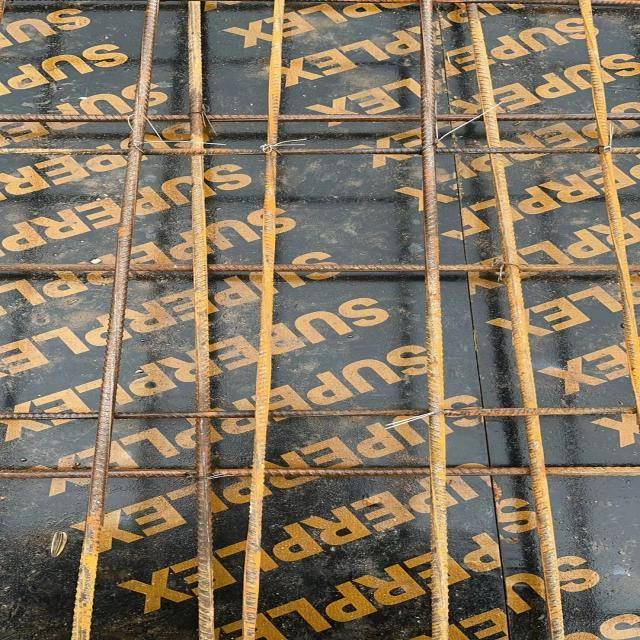ribbed bar: (462, 0, 568, 639), (69, 0, 159, 639), (239, 0, 287, 639), (576, 0, 639, 402), (185, 0, 216, 639), (418, 0, 449, 639), (0, 406, 639, 420), (0, 465, 639, 479), (0, 111, 639, 122), (0, 146, 639, 157), (0, 263, 639, 273)
